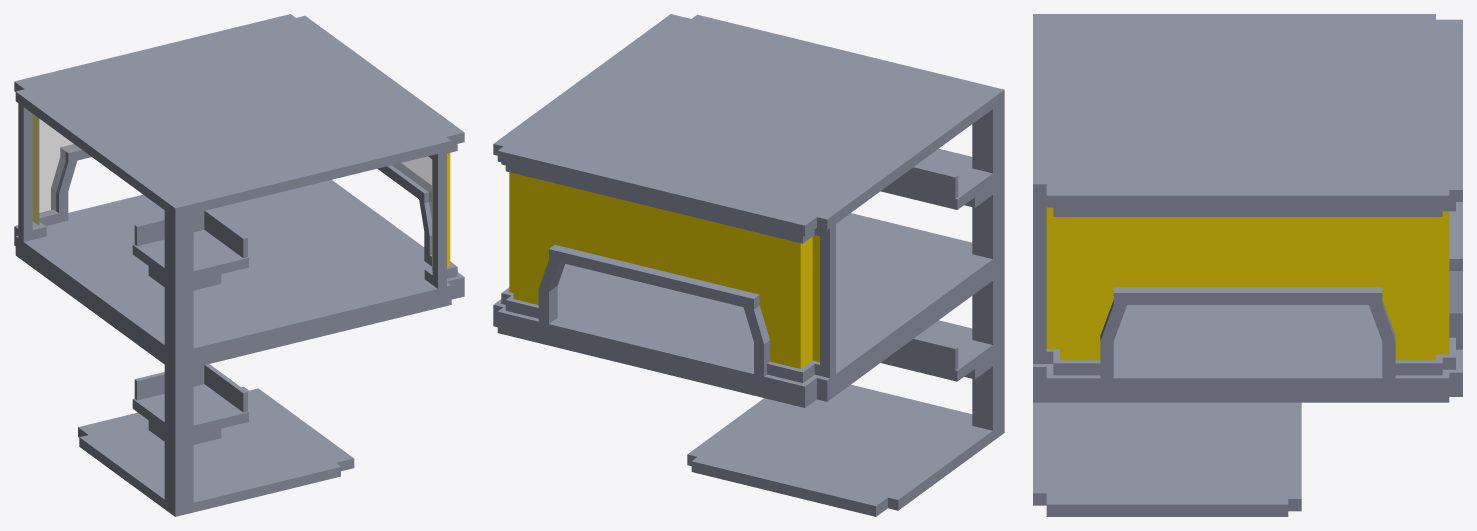
File: building_bldg-outercorner_v01.gltf
3 renders of one model, left to right at view 1: azimuth 30°, elevation 25°; view 2: azimuth 150°, elevation 25°; view 3: azimuth 270°, elevation 25°, orthographic. The views are drawn at different scales.
Visible parts, largest first — view 1: massing, frame 1, window, massing 2; view 2: massing, window, frame 1; view 3: massing, window, frame 1.
Boxes of the visible parts, x1,y1,x2,y2 form: massing: (14, 14, 464, 516); frame 1: (18, 103, 457, 288); window: (32, 114, 450, 270); massing 2: (39, 150, 431, 266); massing: (493, 14, 1004, 516); window: (509, 172, 819, 368); frame 1: (501, 163, 835, 382); massing: (1033, 14, 1462, 516); window: (1046, 207, 1449, 360); frame 1: (1033, 196, 1462, 378).
Size of what is drawn, in the model's own units: 16 by 16 by 16.
